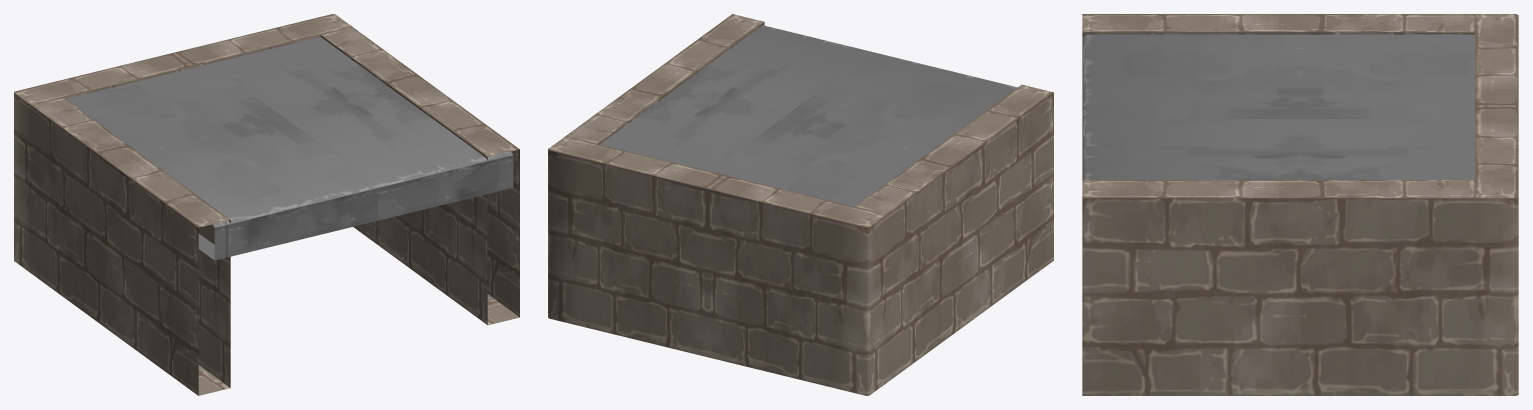
File: Stairs_Exterior_PlatformU.gltf
The picture shows the model from 3 angles, left to right: view 1: azimuth 30°, elevation 25°; view 2: azimuth 150°, elevation 25°; view 3: azimuth 270°, elevation 25°; orthographic projection. The views are drawn at different scales.
Parts seen in each view (by area): view 1: Stairs_Exterior_PlatformU; view 2: Stairs_Exterior_PlatformU; view 3: Stairs_Exterior_PlatformU.
Part boxes in pixels (x1,y1,x2,y2): Stairs_Exterior_PlatformU: [14, 14, 519, 395]; Stairs_Exterior_PlatformU: [548, 14, 1053, 395]; Stairs_Exterior_PlatformU: [1082, 14, 1518, 395].
Size of the model in its own units: 2 by 1 by 2.
2 materials, 2 textured.
